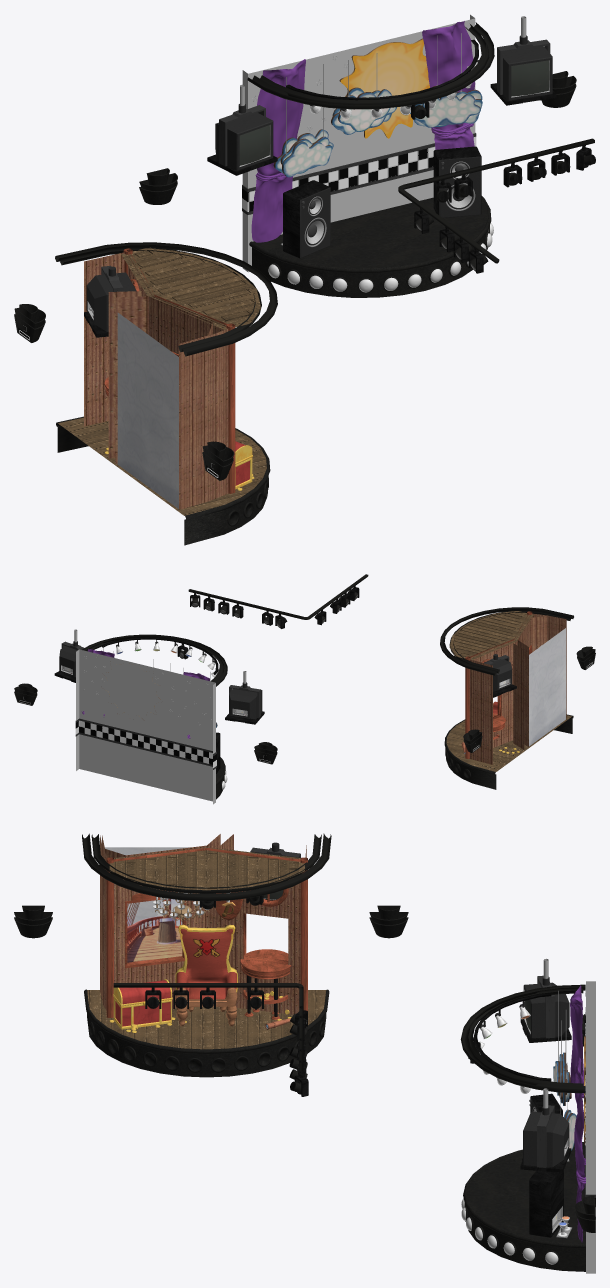
Rendered from FNaF1Stage.fbx.
The picture shows the model from 3 angles, top to bottom: view 1: azimuth 30°, elevation 25°; view 2: azimuth 150°, elevation 25°; view 3: azimuth 270°, elevation 25°; orthographic projection. The views are drawn at different scales.
Parts seen in each view (by area): view 1: Circle.001, Circle, Wall, Circle.010, Painting, Circle.011, TV, Circle.003, TV.001, Circle.006, Circle.009, Circle.008 (+2 smaller); view 2: Circle.001, Wall, Circle.010, Painting, Circle, Circle.011, TV, TV.001, Circle.003, Circle.004, Circle.006, Circle.008 (+1 smaller); view 3: Circle.010, Circle, Wall, Circle.001, Chair, Circle.011, Circle.003, Painting.003, TV, Cube.001, Cage.001, Circle.008 (+4 smaller).
Part boxes in pixels (box(x1,y1,x2,y2)): Circle.001: box(242, 14, 482, 272); Circle: box(247, 22, 494, 297); Wall: box(84, 248, 235, 509); Circle.010: box(55, 242, 277, 545); Painting: box(117, 312, 178, 508); Circle.011: box(398, 138, 595, 273); TV: box(207, 84, 277, 175); Circle.003: box(490, 16, 556, 105); TV.001: box(84, 265, 136, 337); Circle.006: box(139, 168, 177, 204); Circle.009: box(202, 441, 234, 480); Circle.008: box(14, 304, 45, 342); Circle.001: box(75, 646, 217, 804); Wall: box(465, 611, 566, 764); Circle.010: box(440, 607, 573, 789); Painting: box(529, 628, 565, 746); Circle: box(82, 634, 227, 799); Circle.011: box(188, 574, 454, 656); TV: box(225, 671, 264, 724); TV.001: box(483, 654, 516, 697); Circle.003: box(54, 629, 84, 682); Circle.004: box(14, 683, 37, 705); Circle.006: box(254, 742, 277, 764); Circle.008: box(463, 729, 482, 752); Circle.010: box(82, 833, 331, 1077); Circle: box(460, 984, 585, 1271); Wall: box(100, 834, 307, 1017); Circle.001: box(553, 981, 595, 1273); Chair: box(175, 924, 237, 1026); Circle.011: box(113, 888, 308, 1096); Circle.003: box(520, 1088, 571, 1172); Painting.003: box(127, 898, 182, 962); TV: box(520, 958, 571, 1042); Cube.001: box(113, 979, 172, 1029); Cage.001: box(240, 949, 291, 1020); Circle.008: box(369, 905, 408, 938).
Size of the model in its own units: 827 by 250 by 671.
